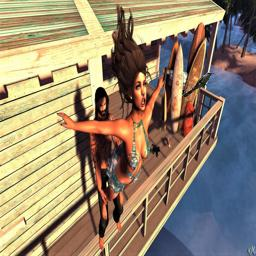Cuckoo: (182, 72, 214, 97)
